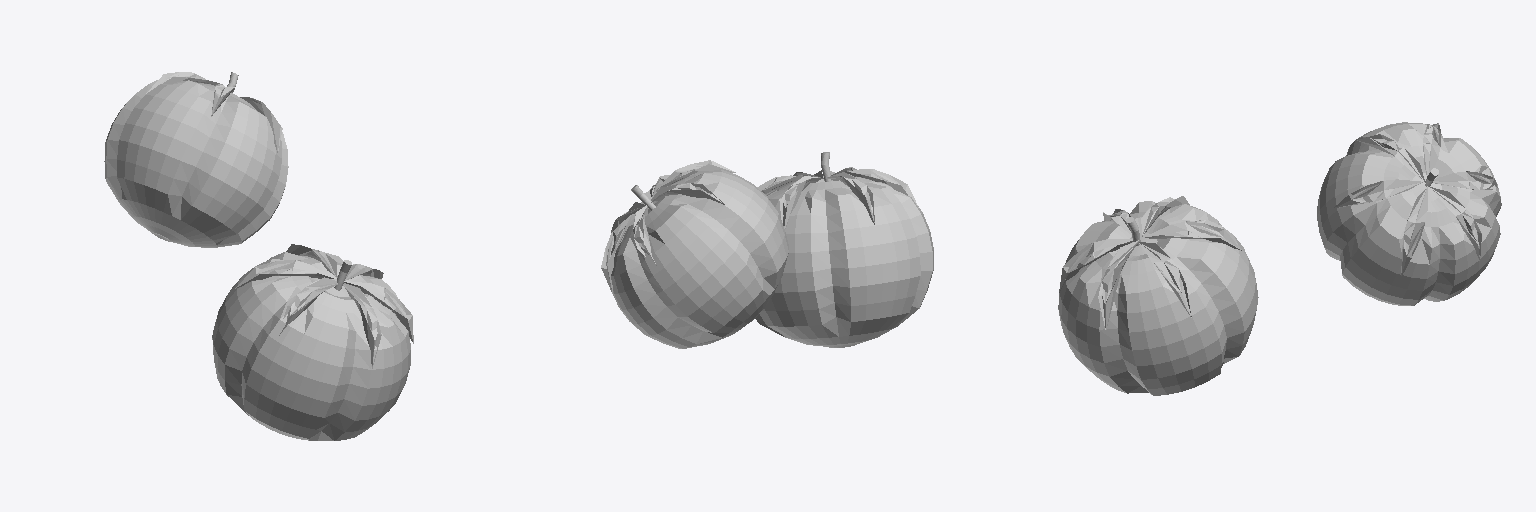
File: MAKE TOMATO.obj
3 views of the same model, side by side, from view 1: azimuth 30°, elevation 25°; view 2: azimuth 150°, elevation 25°; view 3: azimuth 270°, elevation 25° (orthographic).
Parts seen in each view (by area): view 1: Sphere, Sphere.001_Sphere.002, leaves_Plane.002, leaves.001_Plane.001; view 2: Sphere.001_Sphere.002, Sphere, leaves.001_Plane.001, leaves_Plane.002; view 3: Sphere, Sphere.001_Sphere.002, leaves.001_Plane.001, leaves_Plane.002.
Part boxes in pixels (bbox=[...]): Sphere: bbox=[212, 252, 410, 440]; Sphere.001_Sphere.002: bbox=[104, 80, 288, 247]; leaves_Plane.002: bbox=[235, 244, 413, 368]; leaves.001_Plane.001: bbox=[146, 72, 282, 152]; Sphere.001_Sphere.002: bbox=[611, 169, 788, 348]; Sphere: bbox=[755, 176, 933, 347]; leaves.001_Plane.001: bbox=[601, 160, 735, 293]; leaves_Plane.002: bbox=[757, 167, 918, 228]; Sphere: bbox=[1058, 201, 1258, 395]; Sphere.001_Sphere.002: bbox=[1317, 122, 1501, 305]; leaves.001_Plane.001: bbox=[1333, 123, 1497, 276]; leaves_Plane.002: bbox=[1059, 196, 1241, 329].
Bounding box in the file's own units: 2.16 × 2.86 × 4.5.